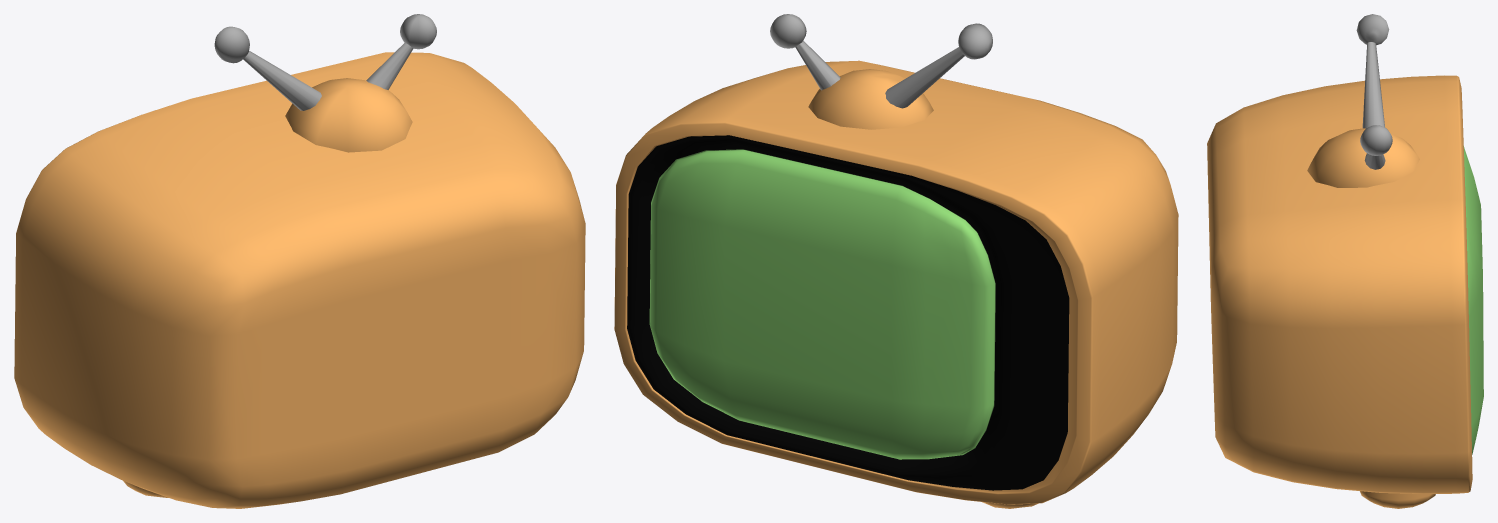
3 views of the same model, side by side, from view 1: azimuth 30°, elevation 25°; view 2: azimuth 150°, elevation 25°; view 3: azimuth 270°, elevation 25° (orthographic). The views are drawn at different scales.
Visible parts, largest first — view 1: TV1; view 2: TV1; view 3: TV1.
Part boxes in pixels (x1,y1,x2,y2): TV1: (14, 14, 585, 508); TV1: (614, 14, 1178, 508); TV1: (1207, 14, 1483, 508).
Size of the model in its own units: 240 by 136 by 218.
